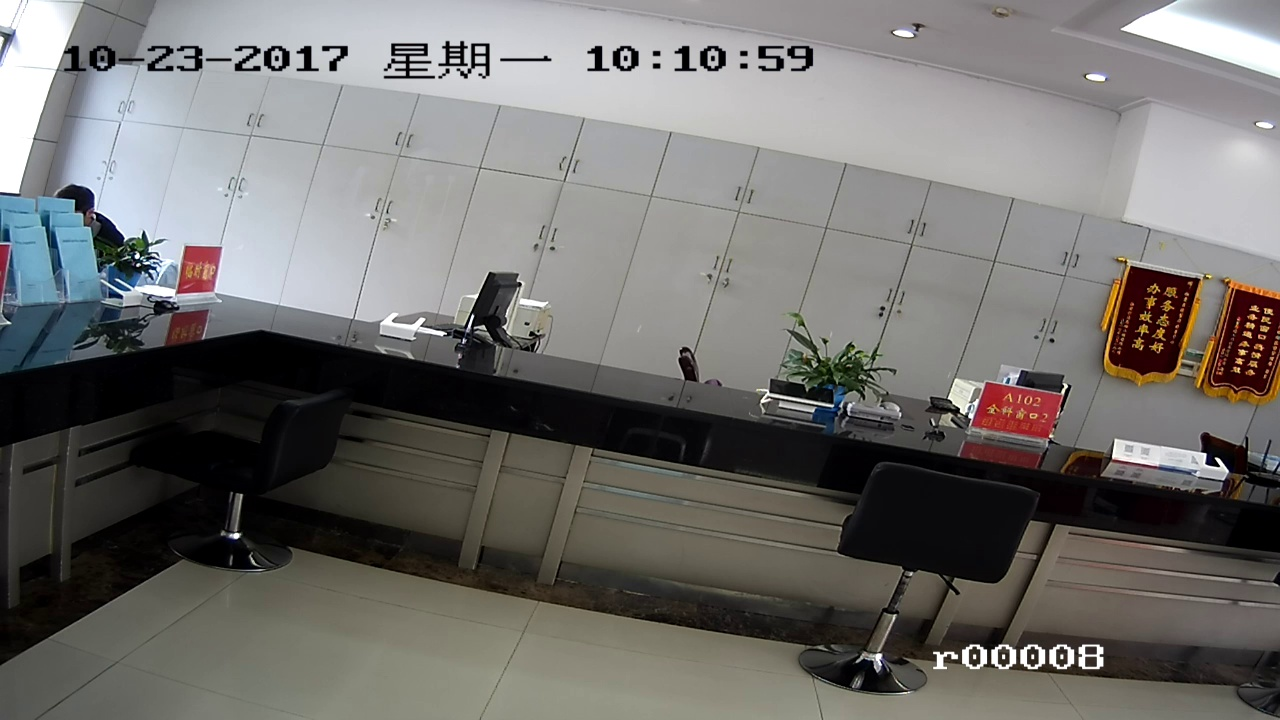billboard: (1116, 262, 1187, 388), (1223, 287, 1273, 409), (980, 385, 1057, 447)
chair: (843, 462, 1044, 705), (170, 390, 343, 571)
monitor: (477, 271, 524, 362)
person: (59, 180, 131, 268)
pot: (793, 326, 880, 422), (119, 232, 155, 302)
